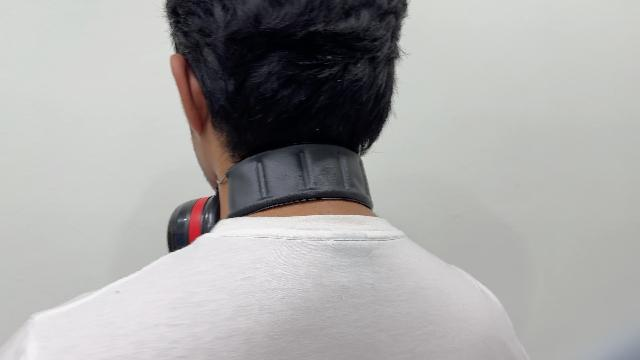headphones: (226, 144, 372, 217)
left_ear: (169, 52, 208, 138)
